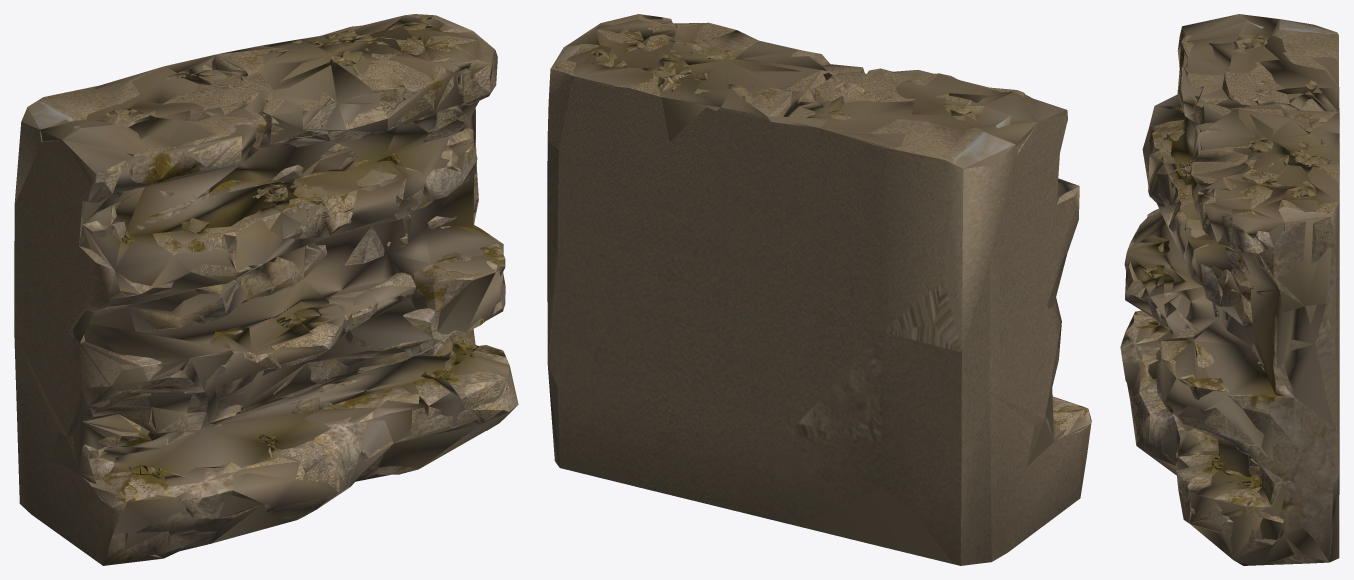
Rendered from pared_estratos.glb.
3 renders of one model, left to right at view 1: azimuth 30°, elevation 25°; view 2: azimuth 150°, elevation 25°; view 3: azimuth 270°, elevation 25°, orthographic. The views are drawn at different scales.
Parts seen in each view (by area): view 1: cerca, lejos, medio; view 2: cerca, medio, lejos; view 3: cerca, medio, lejos.
Boxes of the visible parts, x1=… form: cerca: x1=14, y1=14, x2=518, y2=565; lejos: x1=24, y1=20, x2=517, y2=550; medio: x1=21, y1=15, x2=517, y2=565; cerca: x1=547, y1=14, x2=1091, y2=565; medio: x1=547, y1=14, x2=1090, y2=563; lejos: x1=558, y1=14, x2=1090, y2=565; cerca: x1=1120, y1=19, x2=1339, y2=565; medio: x1=1121, y1=14, x2=1339, y2=565; lejos: x1=1123, y1=19, x2=1338, y2=559.
Bounding box in the file's own units: 4.6 × 3.96 × 2.14.
2 materials, 1 textured.
